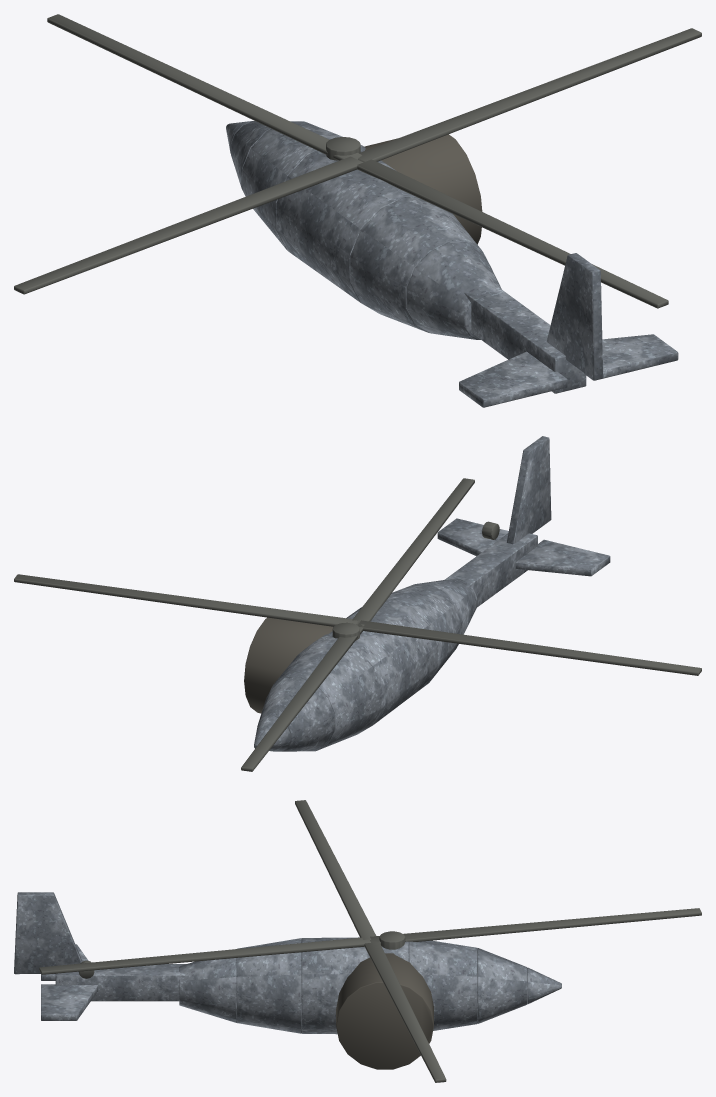
Rendered from aew_e3_uk_aewhelo_LOD0.glb.
The picture shows the model from 3 angles, top to bottom: view 1: azimuth 30°, elevation 25°; view 2: azimuth 150°, elevation 25°; view 3: azimuth 270°, elevation 25°; orthographic projection. The views are drawn at different scales.
Parts seen in each view (by area): view 1: aew_e3_uk_aewhelo_LOD0_body, aew_e3_uk_aewhelo_LOD0_gun, aew_e3_uk_aewhelo_LOD0_deck; view 2: aew_e3_uk_aewhelo_LOD0_body, aew_e3_uk_aewhelo_LOD0_gun, aew_e3_uk_aewhelo_LOD0_deck; view 3: aew_e3_uk_aewhelo_LOD0_body, aew_e3_uk_aewhelo_LOD0_gun, aew_e3_uk_aewhelo_LOD0_deck.
Part boxes in pixels (x1,y1,x2,y2): aew_e3_uk_aewhelo_LOD0_body: (226,121,678,407); aew_e3_uk_aewhelo_LOD0_gun: (14,14,701,308); aew_e3_uk_aewhelo_LOD0_deck: (364,134,482,244); aew_e3_uk_aewhelo_LOD0_body: (254,436,610,751); aew_e3_uk_aewhelo_LOD0_gun: (14,478,701,771); aew_e3_uk_aewhelo_LOD0_deck: (244,617,332,713); aew_e3_uk_aewhelo_LOD0_body: (14,892,561,1034); aew_e3_uk_aewhelo_LOD0_gun: (39,800,701,1082); aew_e3_uk_aewhelo_LOD0_deck: (336,953,433,1069).
Size of the model in its own units: 18.25 by 4.23 by 18.94.
Materials: 3 (1 with a texture image).
